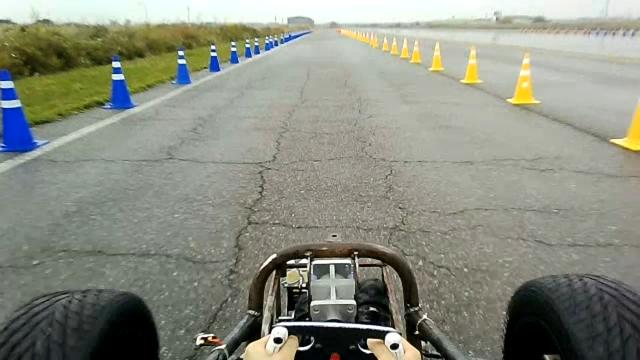blue cone: (101, 54, 137, 110), (171, 47, 192, 85), (208, 43, 222, 72), (229, 40, 239, 64), (244, 37, 252, 58), (253, 37, 261, 55), (264, 35, 272, 51), (272, 34, 279, 47)
yellow cone: (506, 51, 541, 105), (459, 45, 484, 84), (428, 41, 444, 71), (409, 40, 422, 63), (400, 36, 410, 58), (389, 36, 398, 55), (370, 32, 379, 49), (381, 34, 389, 52)
